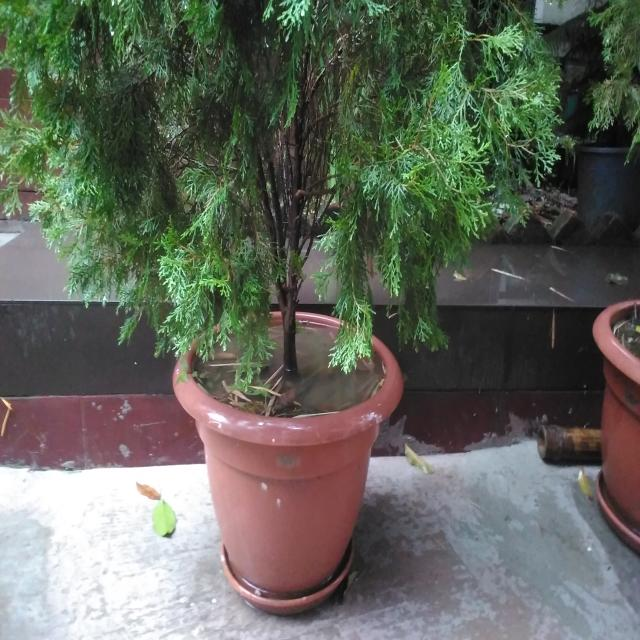artificial_container: (170, 306, 406, 617), (591, 295, 640, 560)
